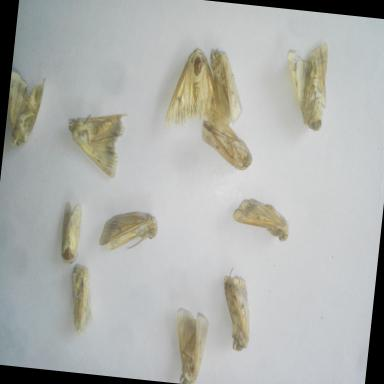abw: (160, 42, 231, 140), (276, 33, 336, 136), (59, 102, 133, 185), (198, 41, 254, 139), (191, 109, 259, 180), (165, 300, 218, 384), (214, 264, 260, 357), (93, 203, 164, 262), (5, 68, 52, 156), (228, 194, 296, 247), (63, 259, 102, 342), (54, 195, 90, 272)
